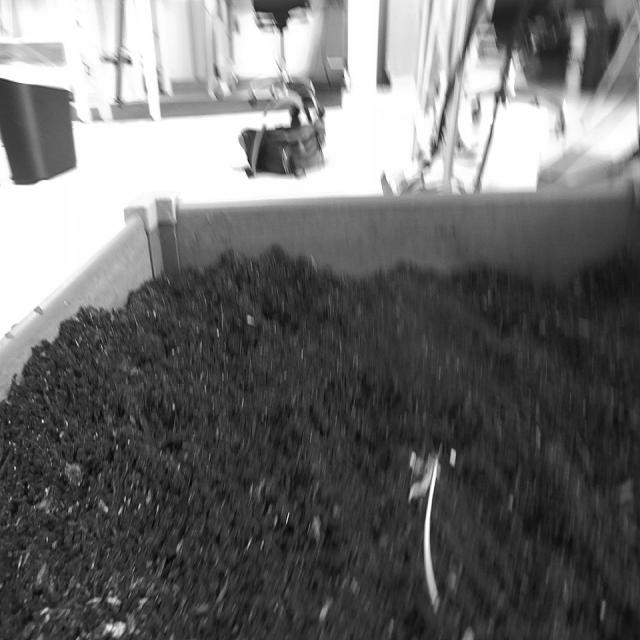Unhealthy: (407, 444, 445, 614)
